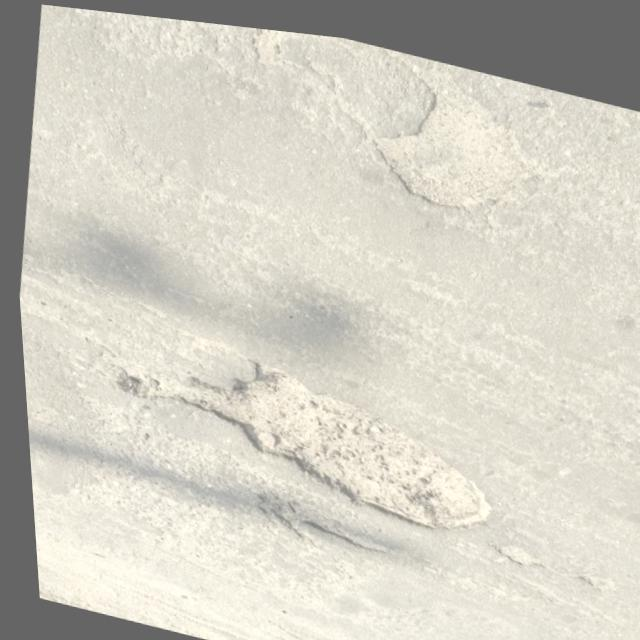pothole: (59, 267, 537, 568)
